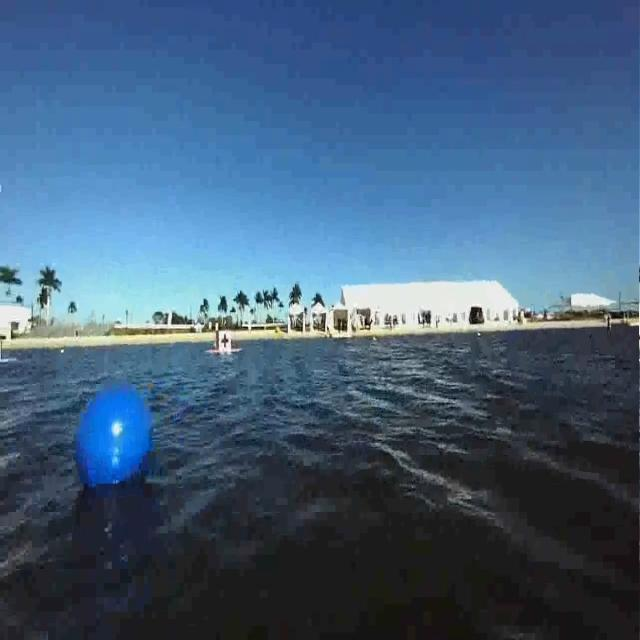blue-buoy: (62, 371, 162, 495)
